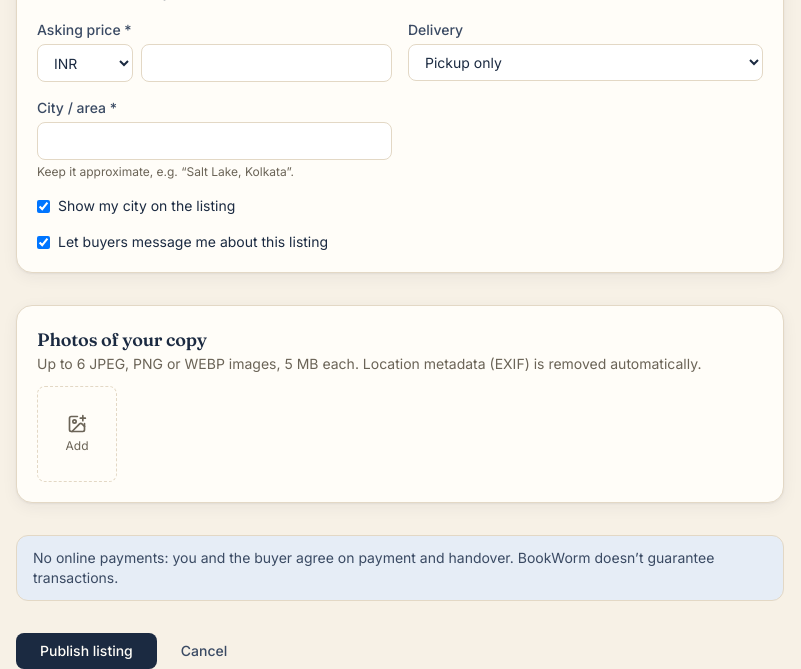
Test case: Sell a book › shows field errors and sends nothing for an empty form
(page scrolled)
Step 1. Click the button "Publish listing" → (86, 651), box [16,633,157,668]
(page scrolled)
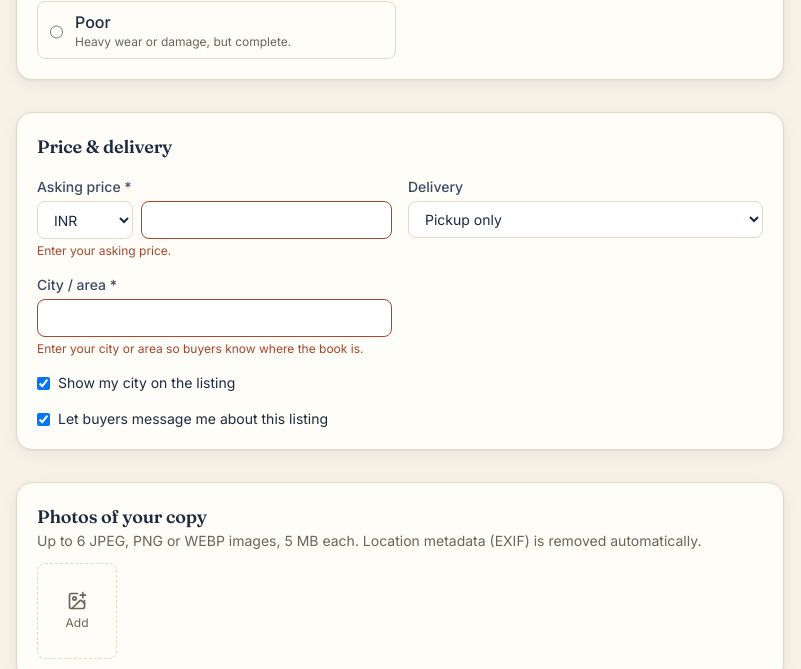
Expected: the text "Enter your asking price." is shown, [37,243,171,258]
Expected: the text "Enter your city or area so buyers know where the book is." is shown, [37,341,392,357]
